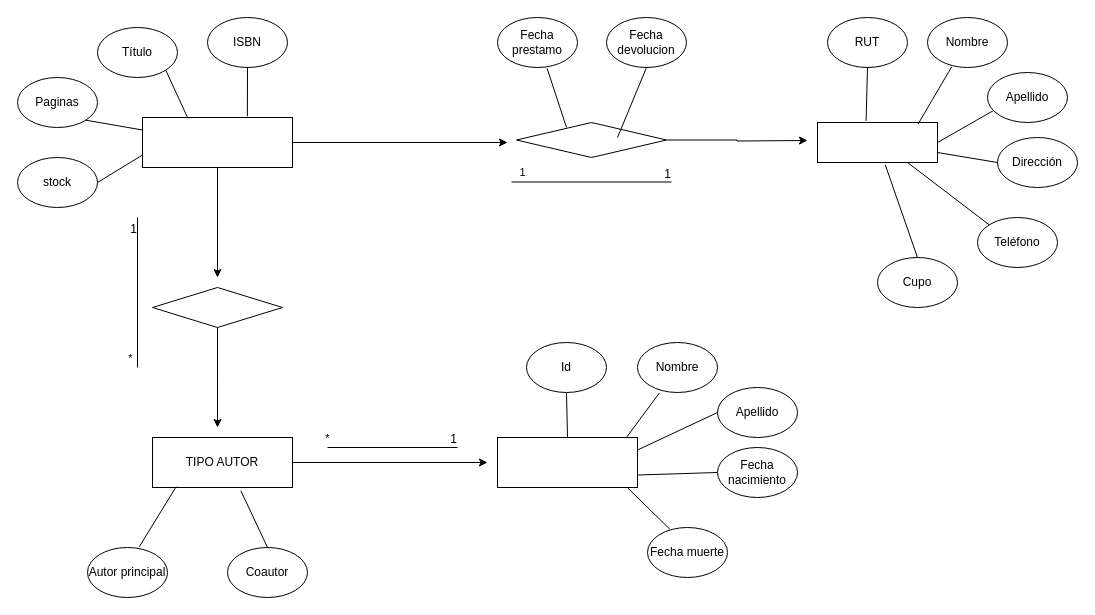
The diagram is 1095 pixels wide and 615 high, and some of its shapes have lost their labels. Each missing label, with the centre of its shape:
"DATOS AUTOR" goes at [567,462].
"LIBRO" goes at [217,142].
"Se presta" goes at [591,140].
"Socio" goes at [877,142].
"Tiene" goes at [217,307].
